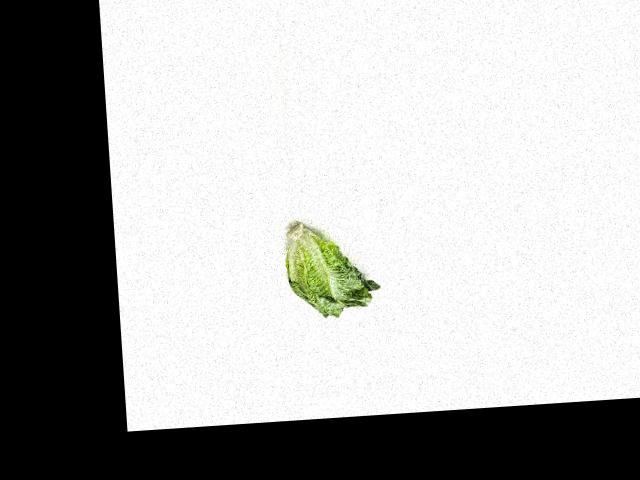lettuce: (280, 221, 381, 325)
